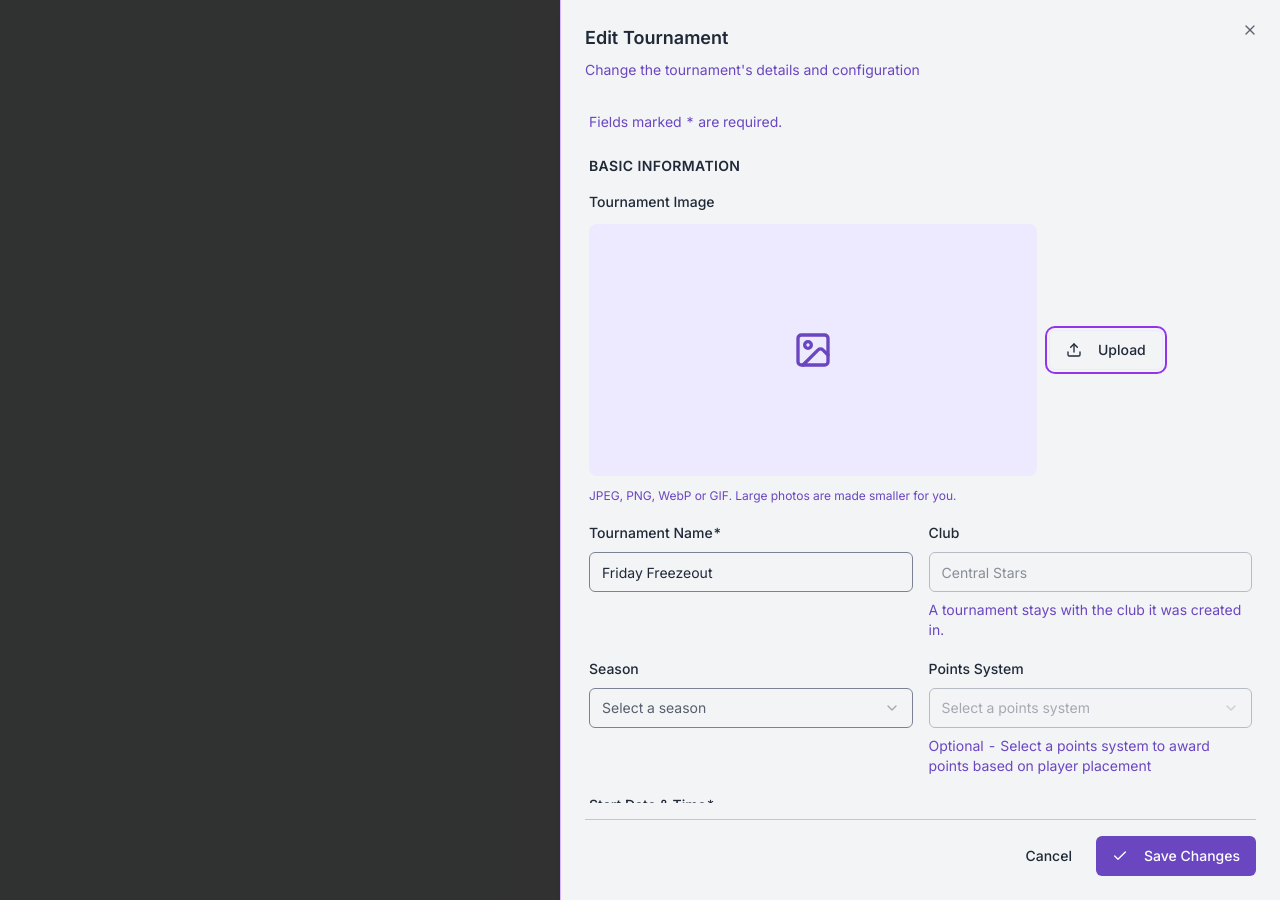
it: EditTournamentDialog (CA-14) › starts from the tournament's settings and sends only what was changed
Expected: the dialog "Edit Tournament" is shown, [560,0,1279,899]
Expected: the field labelled "Club" holds "Central Stars", [928,552,1252,592]
Step 1. Replace the text in the field with test id "tournament-name" with "Friday Deepstack" → (751, 572), box [589,552,912,592]
(page scrolled)
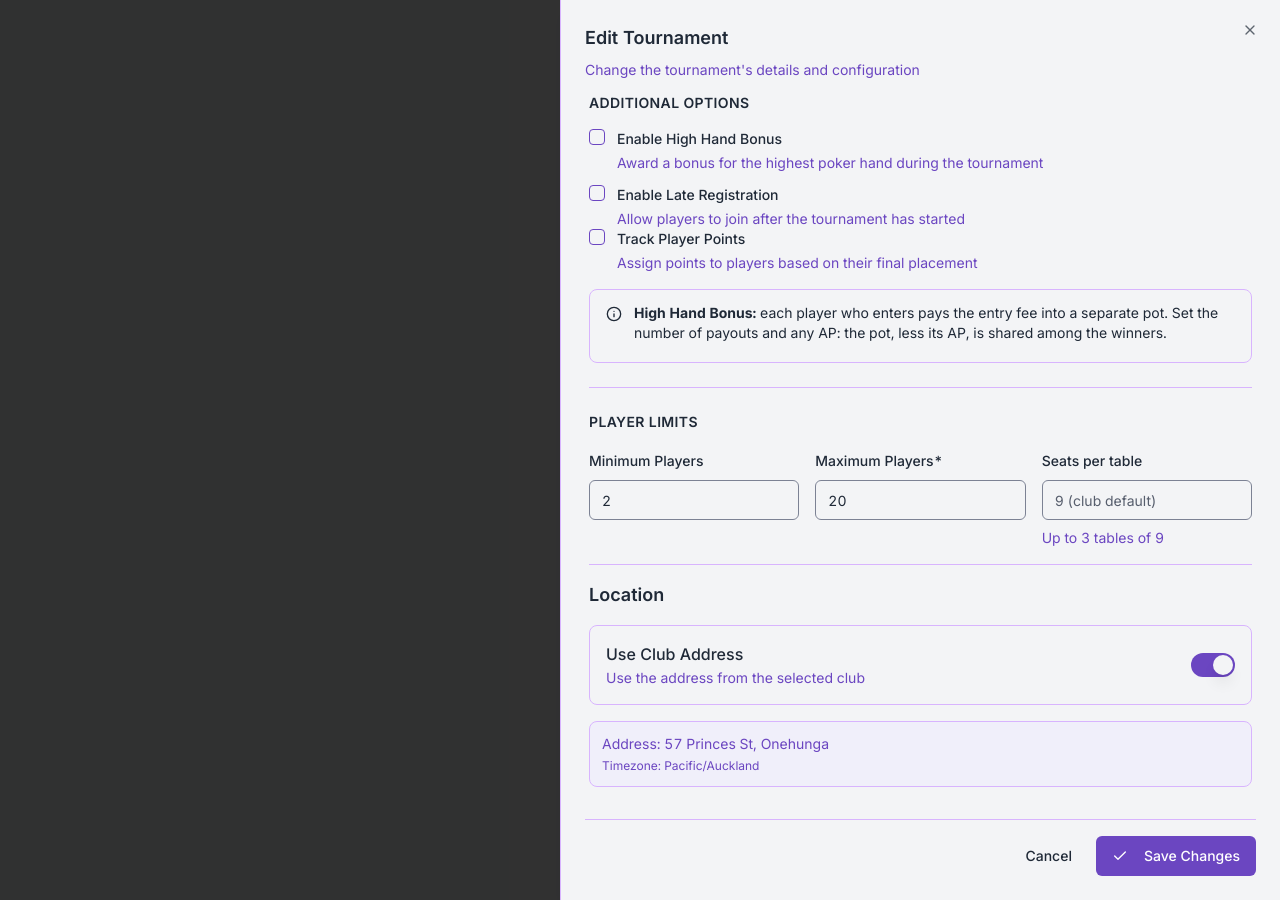
Step 2. Replace the text in the field with test id "max-players" with "40" → (920, 500), box [815,480,1026,520]
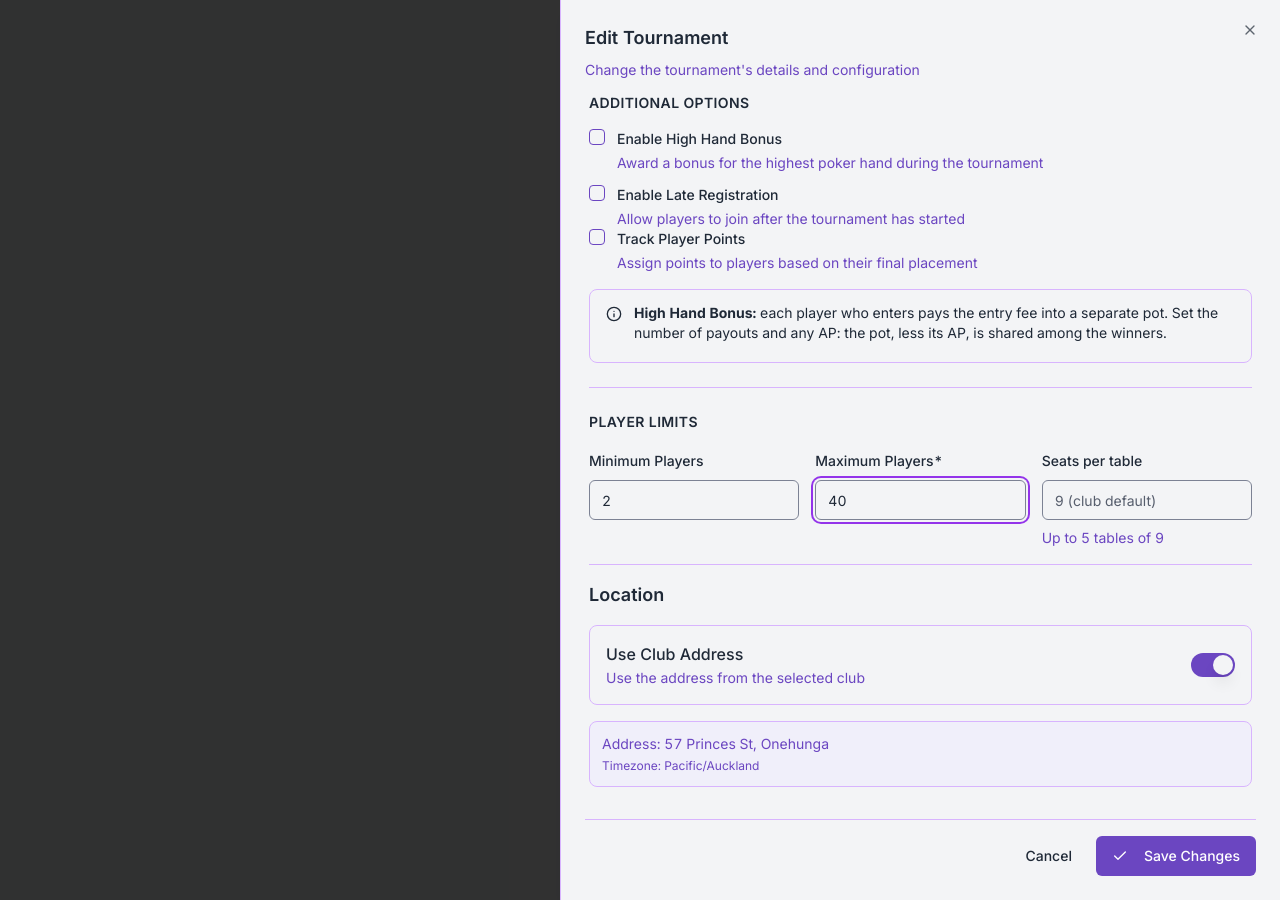
Step 3. Click the button with test id "save-tournament" → (1176, 856), box [1096,836,1256,876]
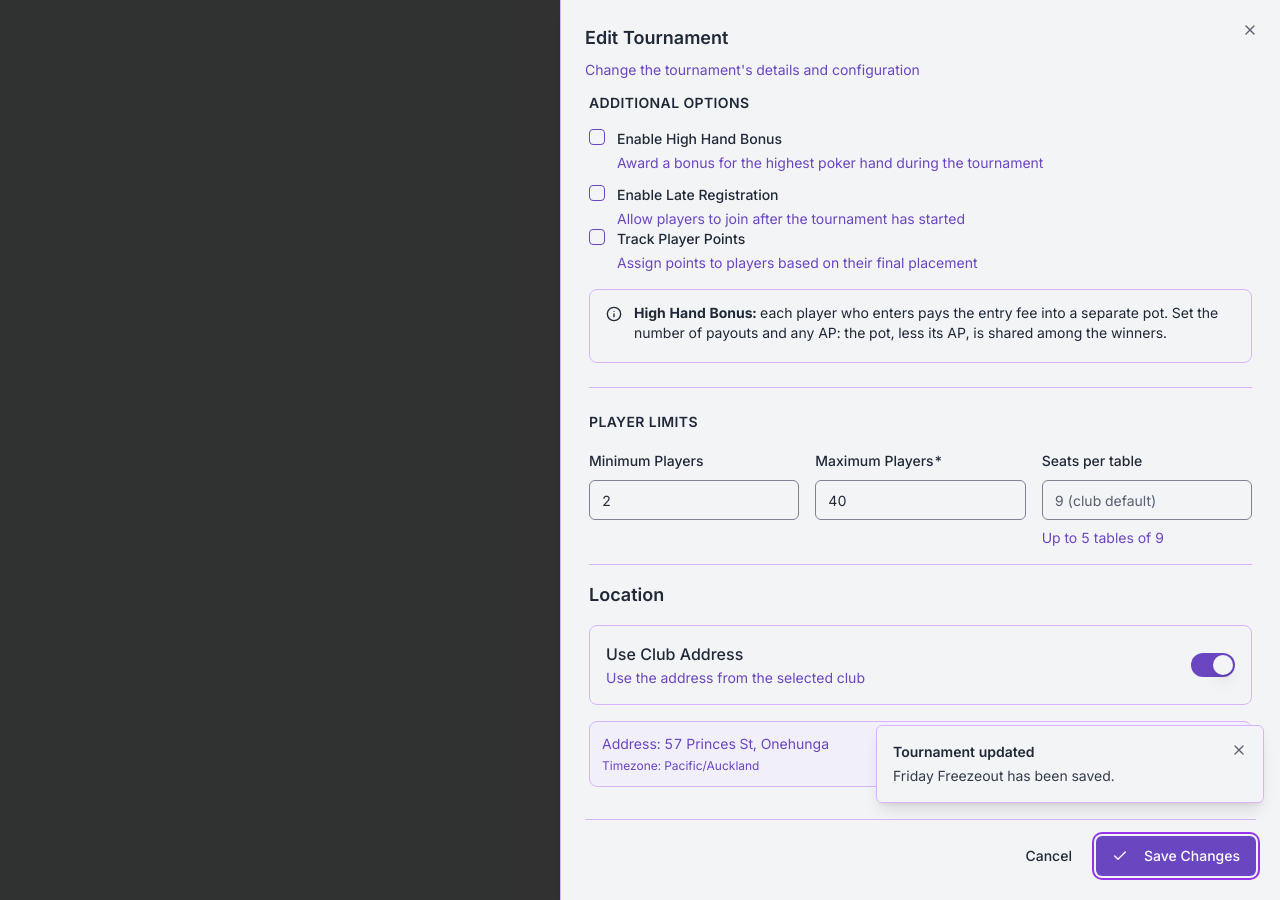
Now the text "Tournament updated" is shown, box [893,743,1035,760]
